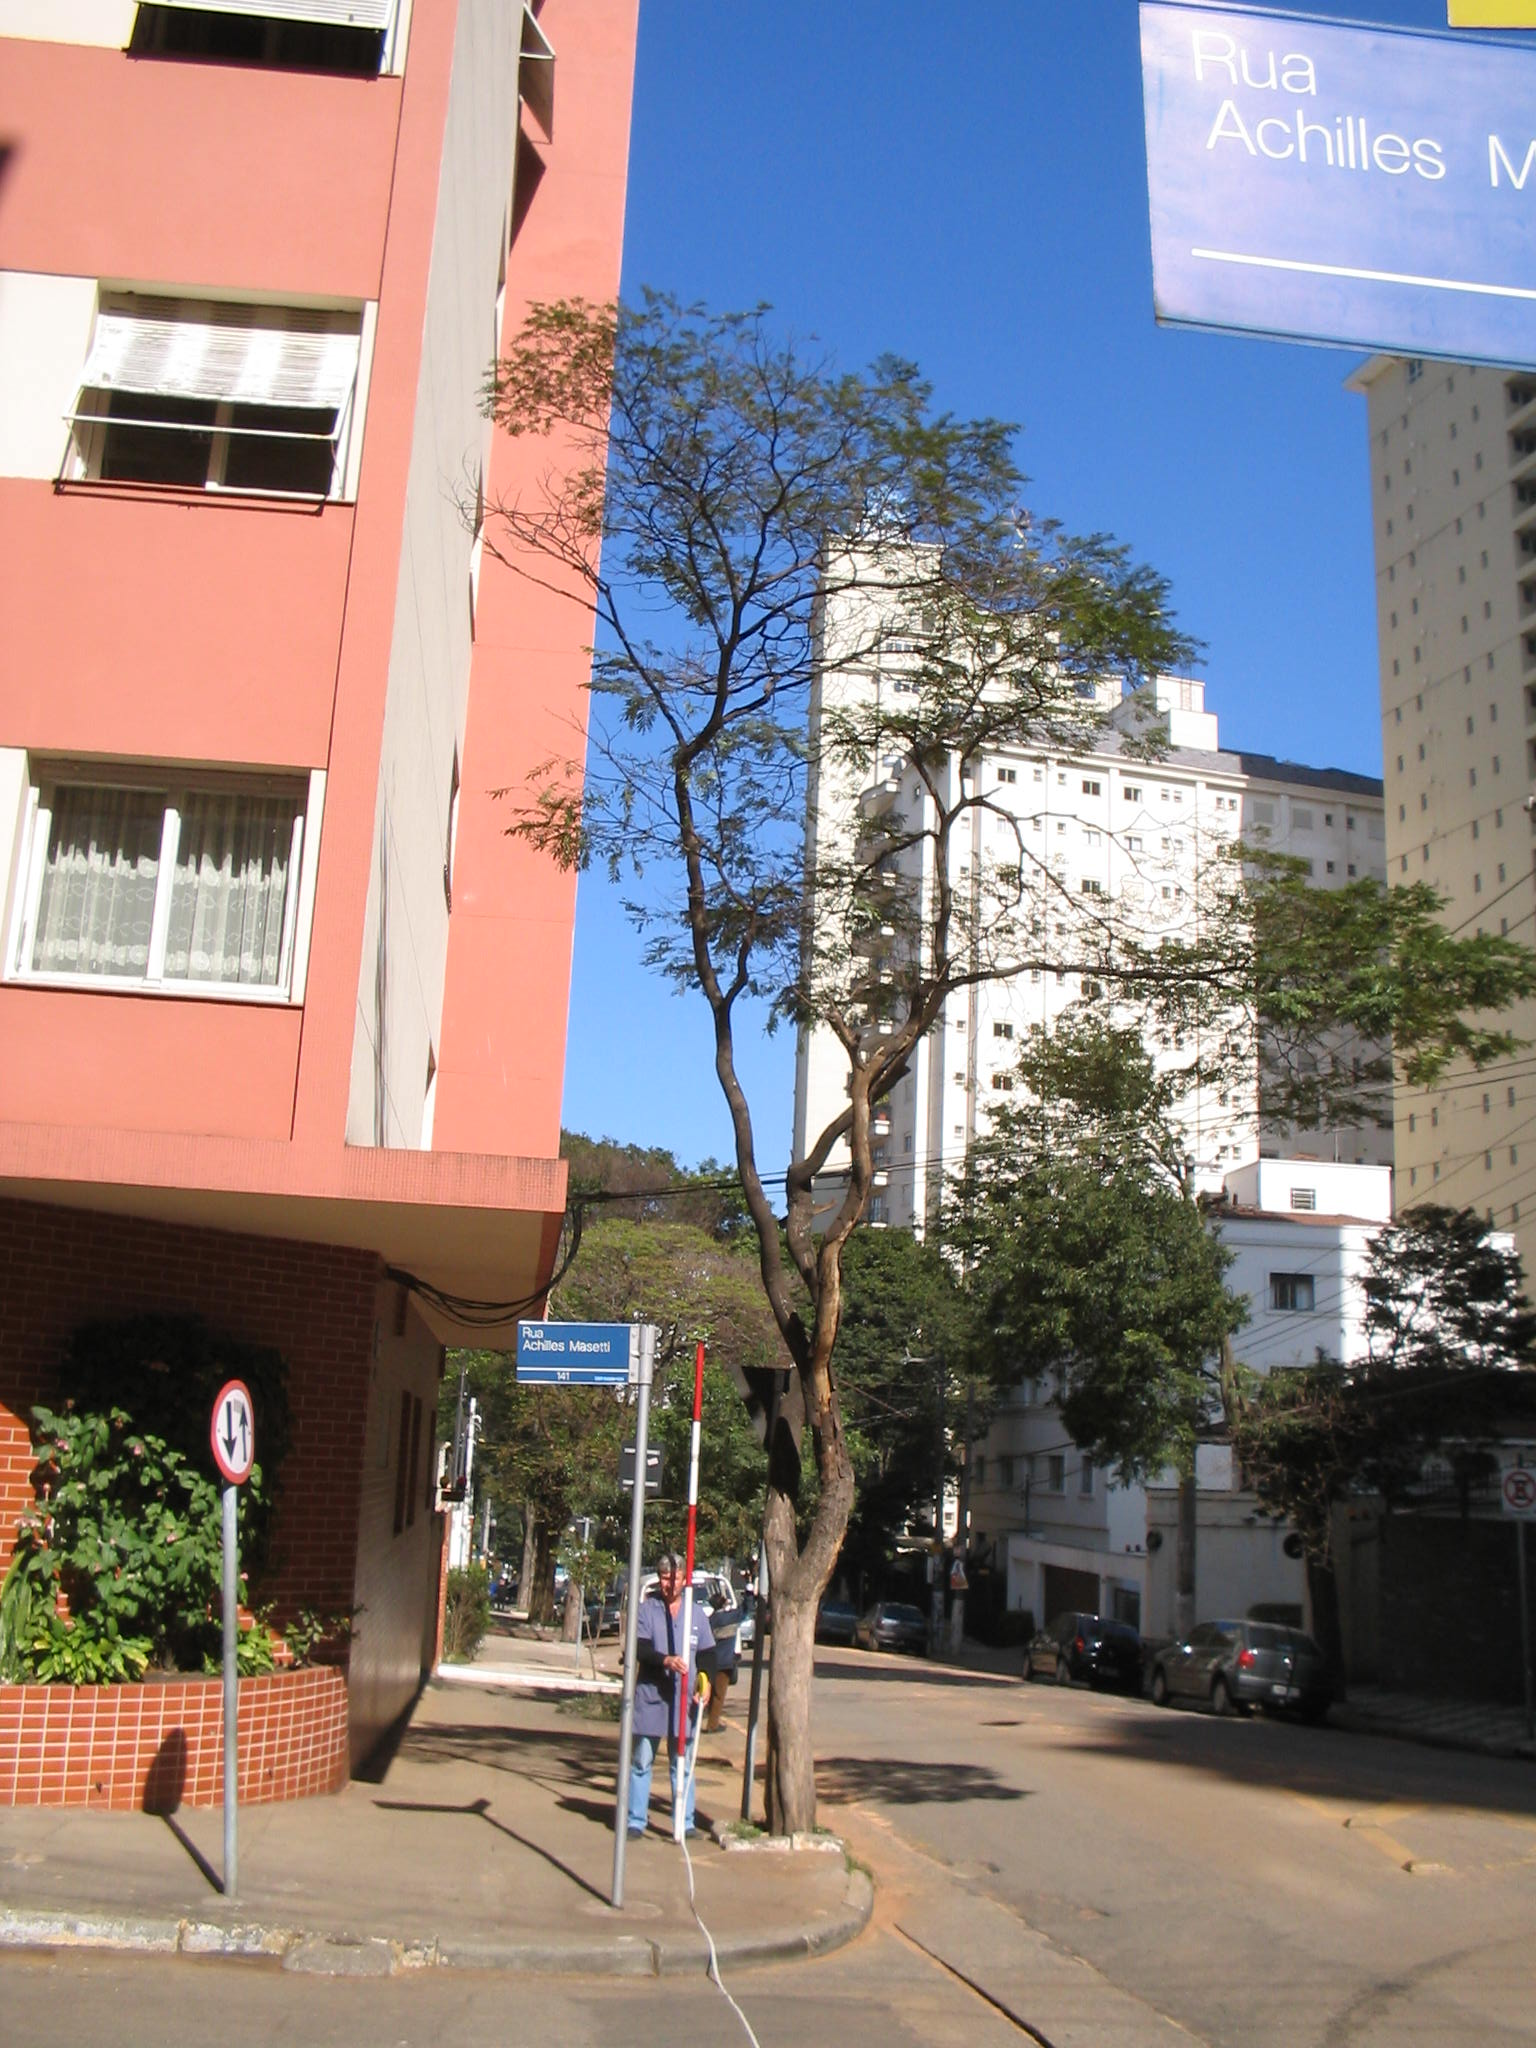crown: (474, 300, 1196, 1066)
stem: (729, 1561, 857, 1832)
stick: (644, 1340, 728, 1843)
tree: (461, 292, 1204, 1845)
